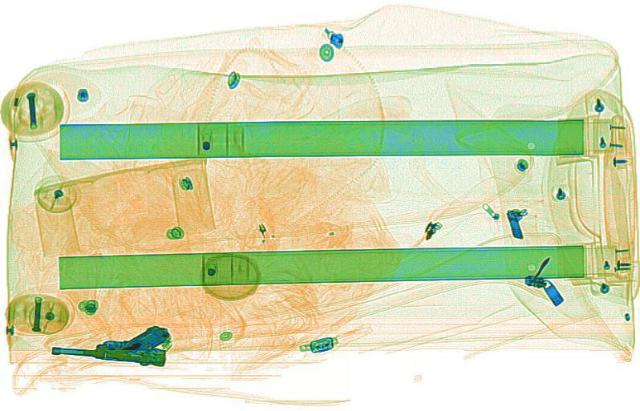Gun: (48, 314, 174, 365)
